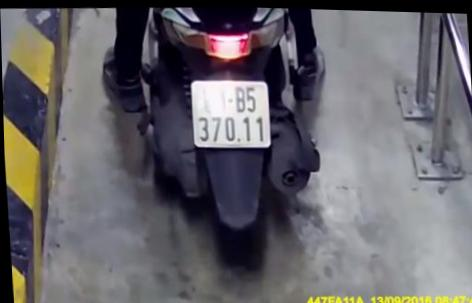LP: (189, 76, 272, 148)
